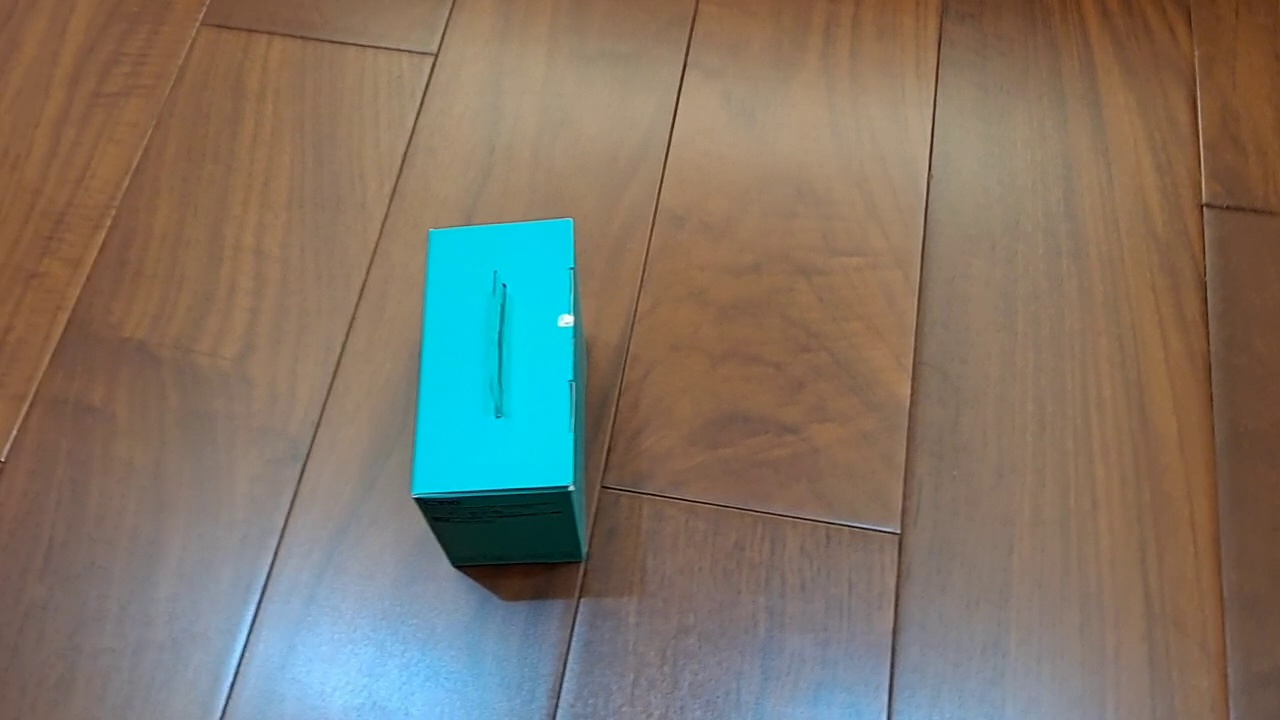webcam: (408, 216, 587, 568)
